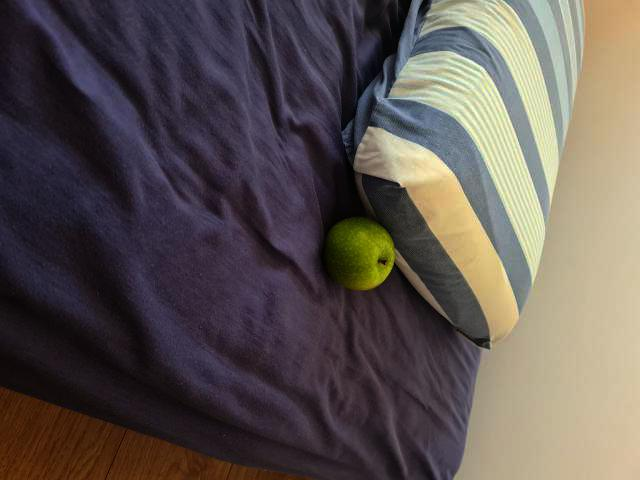apple: (325, 218, 395, 285)
